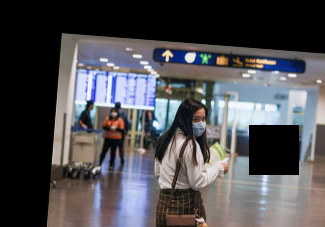with_mask: (189, 112, 206, 137), (108, 109, 118, 118)
